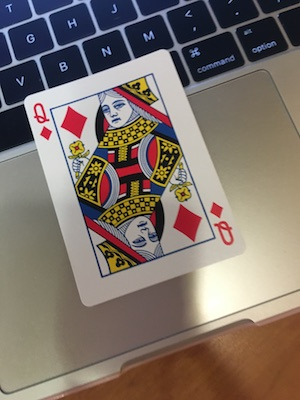QueenOfDiamonds: (20, 44, 250, 307)
